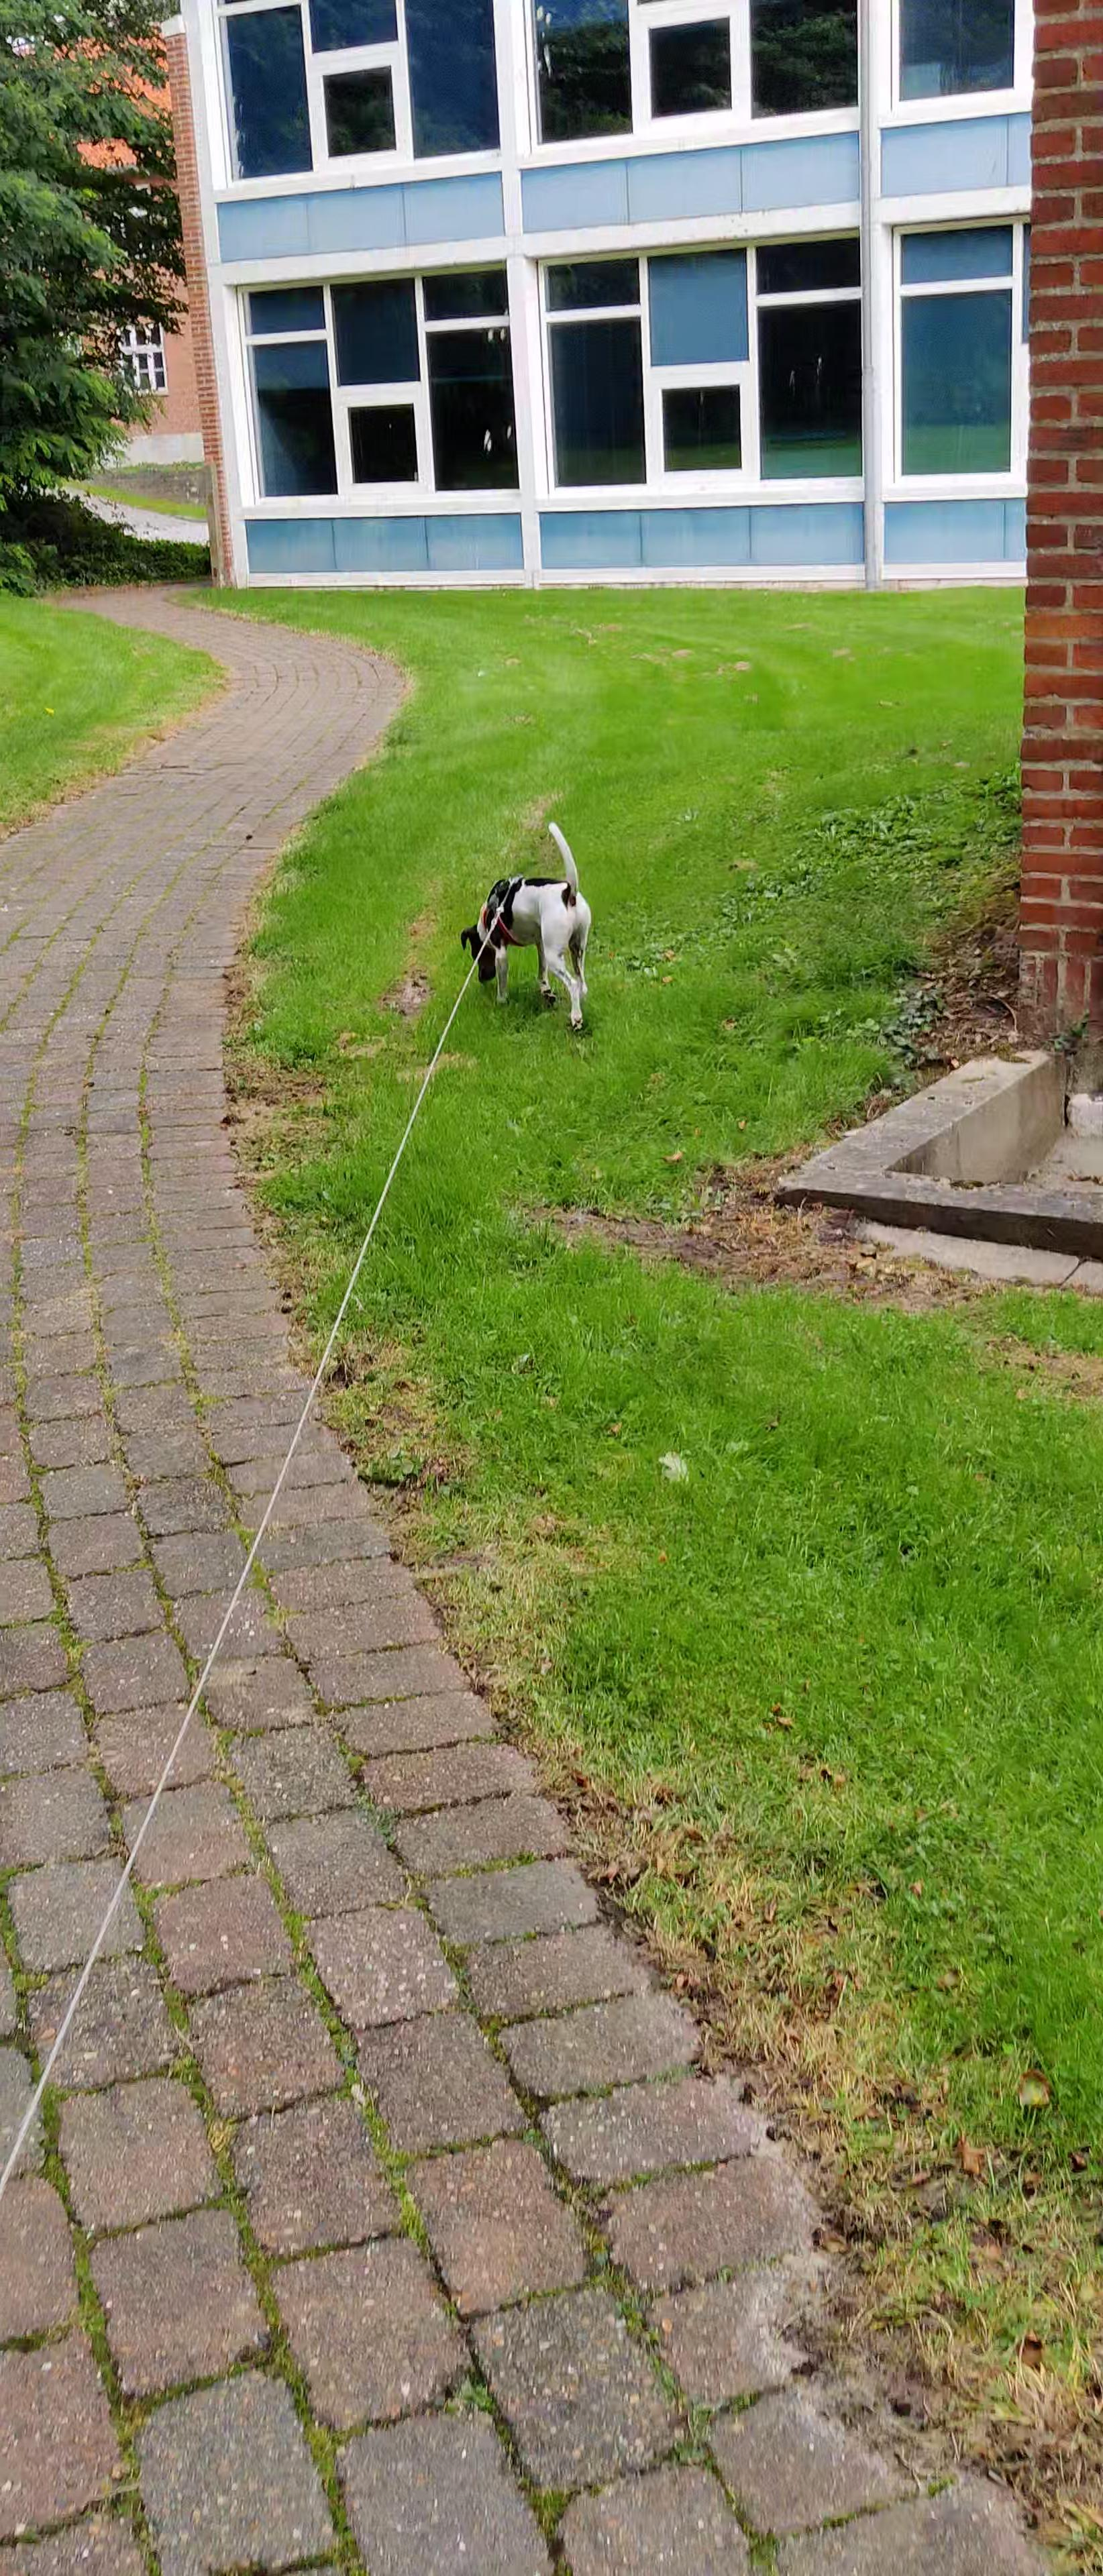Dog: (455, 808, 602, 1038)
